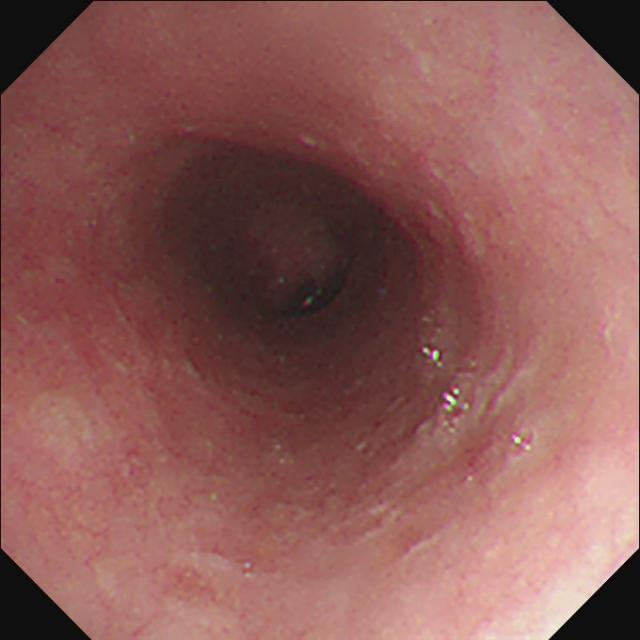E: (161, 137, 377, 328)
T: (421, 345, 472, 419)
